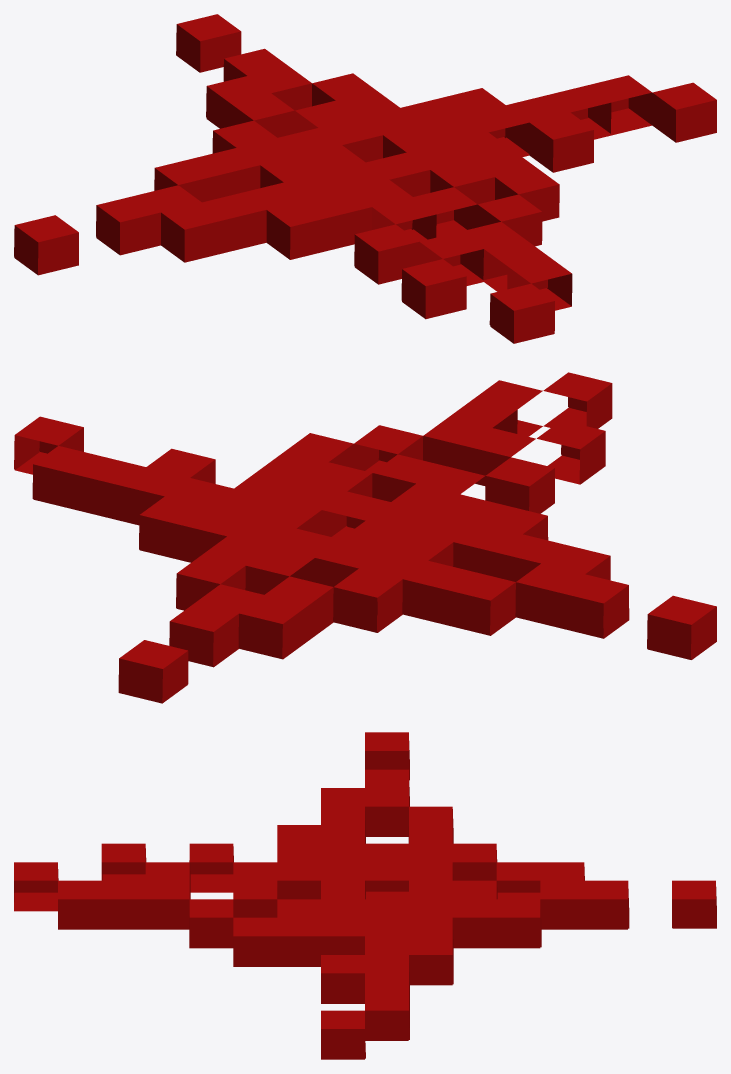
The model's file is redstone7.obj.
3 renders of one model, top to bottom at view 1: azimuth 30°, elevation 25°; view 2: azimuth 150°, elevation 25°; view 3: azimuth 270°, elevation 25°, orthographic. The views are drawn at different scales.
Visible parts, largest first — view 1: Plane, Cube; view 2: Plane, Cube; view 3: Plane, Cube.
Part boxes in pixels (left/top/right/bottom): Plane: left=15, top=14, right=716, bottom=310; Cube: left=14, top=24, right=716, bottom=343; Plane: left=15, top=372, right=716, bottom=668; Cube: left=14, top=383, right=716, bottom=703; Plane: left=14, top=732, right=715, bottom=1028; Cube: left=14, top=741, right=716, bottom=1059.
Bounding box in the file's own units: 1 × 0.0481 × 1.
2 materials, 2 textured.
